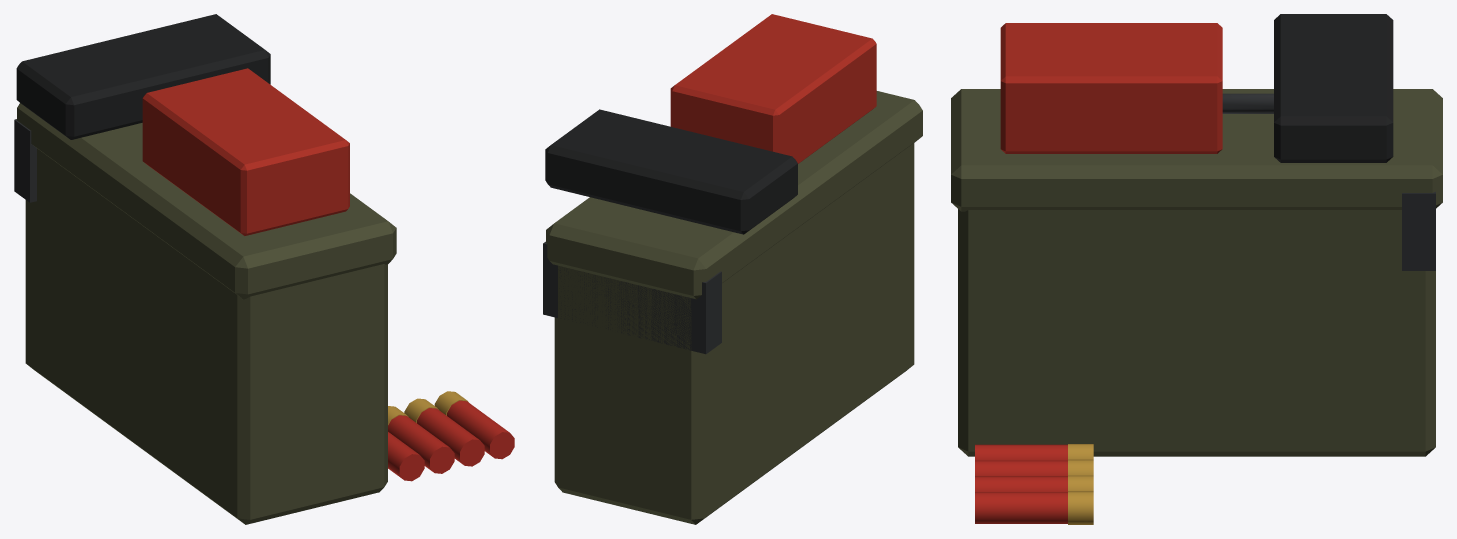
File: ammo.glb
The picture shows the model from 3 angles, left to right: view 1: azimuth 30°, elevation 25°; view 2: azimuth 150°, elevation 25°; view 3: azimuth 270°, elevation 25°; orthographic projection. The views are drawn at different scales.
Parts seen in each view (by area): view 1: ammo; view 2: ammo; view 3: ammo.
Part boxes in pixels (x1=…): ammo: x1=14, y1=14, x2=514, y2=524; ammo: x1=543, y1=14, x2=922, y2=524; ammo: x1=951, y1=14, x2=1442, y2=524.
Size of the model in its own units: 0.2255 by 0.2405 by 0.288.
